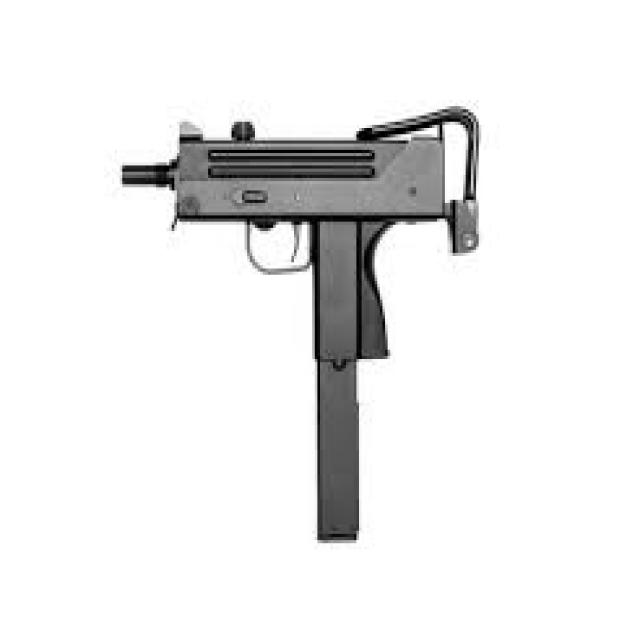semi: (117, 104, 482, 539)
